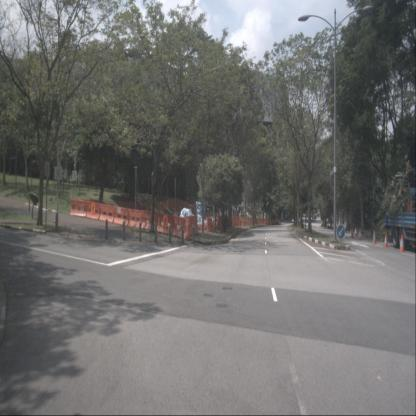barrier: (172, 214, 190, 240), (156, 212, 173, 235), (113, 206, 130, 226), (141, 210, 157, 231), (70, 199, 88, 217), (127, 208, 143, 228), (99, 204, 115, 223), (184, 215, 199, 234), (86, 201, 100, 220), (205, 216, 213, 232), (216, 215, 224, 228), (231, 216, 236, 227), (236, 216, 241, 226), (249, 217, 253, 225), (241, 217, 245, 225), (246, 217, 250, 225), (258, 218, 262, 224), (264, 218, 267, 224), (262, 218, 264, 224), (256, 218, 258, 223)
cone: (399, 233, 405, 253), (383, 232, 389, 248), (372, 230, 376, 244), (358, 228, 362, 240), (351, 226, 354, 237), (354, 226, 357, 237)
